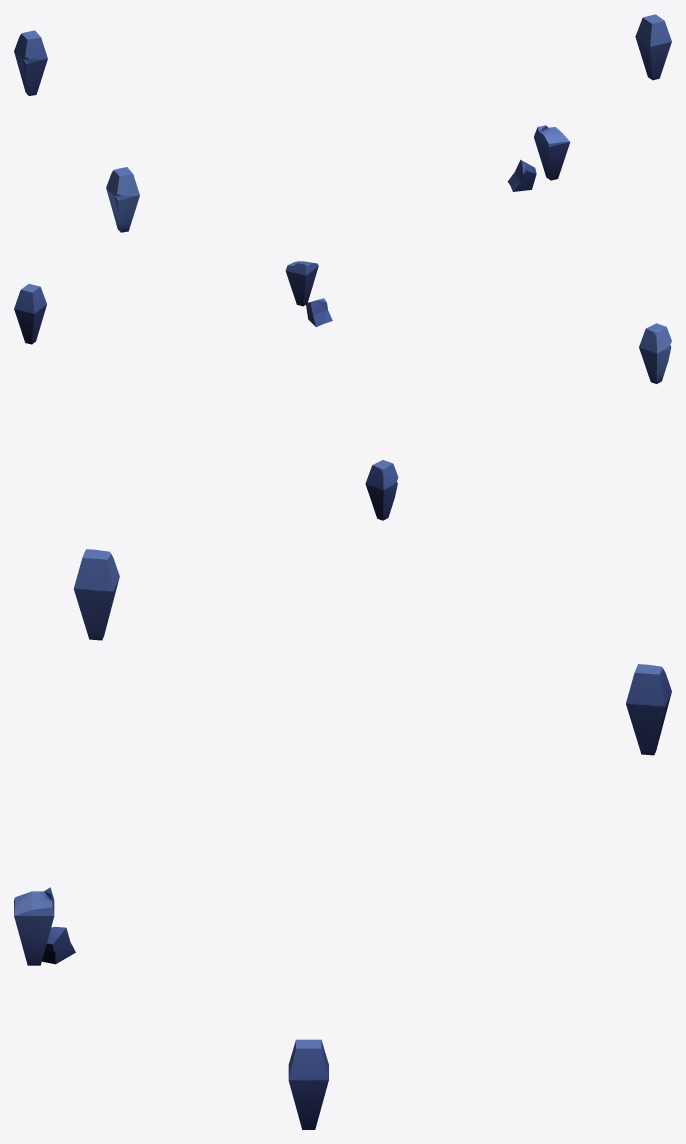
The model's file is Crystal_01.FBX.
The picture shows the model from 3 angles, top to bottom: view 1: azimuth 30°, elevation 25°; view 2: azimuth 150°, elevation 25°; view 3: azimuth 270°, elevation 25°; orthographic projection. The views are drawn at different scales.
Parts seen in each view (by area): view 1: Crystal_01; view 2: Crystal_01; view 3: Crystal_01.
Boxes of the visible parts, left/top/right/bottom form: Crystal_01: left=14, top=14, right=671, bottom=232; Crystal_01: left=14, top=261, right=671, bottom=520; Crystal_01: left=14, top=549, right=671, bottom=1129.
Size of the model in its own units: 27.47 by 4.54 by 17.57.
